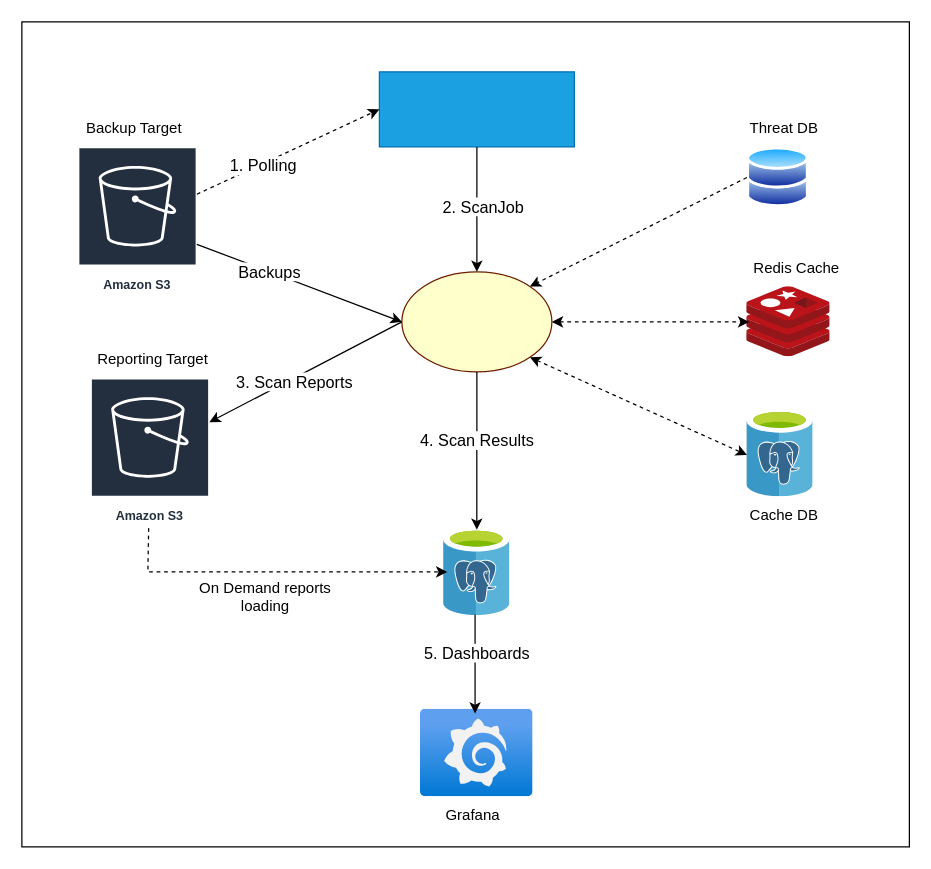
The diagram is 931 pixels wide and 869 high, and some of its shapes have lost their labels. The box of each missing label's shape, as (x1, y1, x2, y2) in pixels:
Forensic Engine: (401, 271, 552, 372)
Threat scanning Controller: (378, 71, 574, 147)
